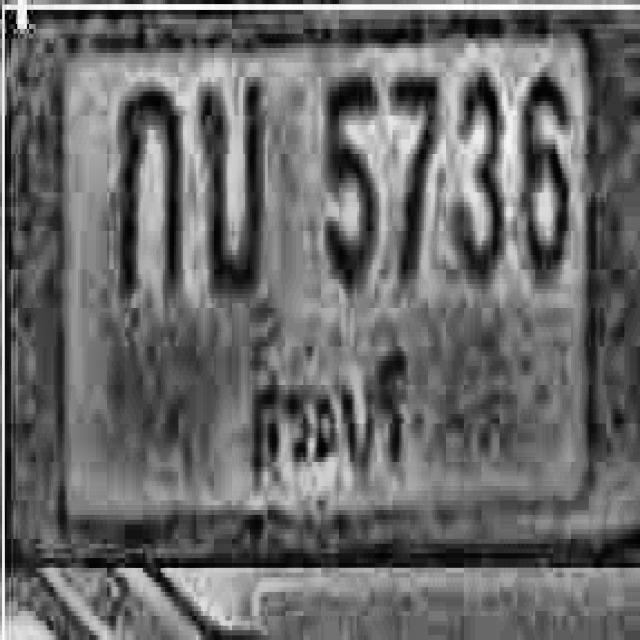license-plate: (0, 2, 640, 561)
